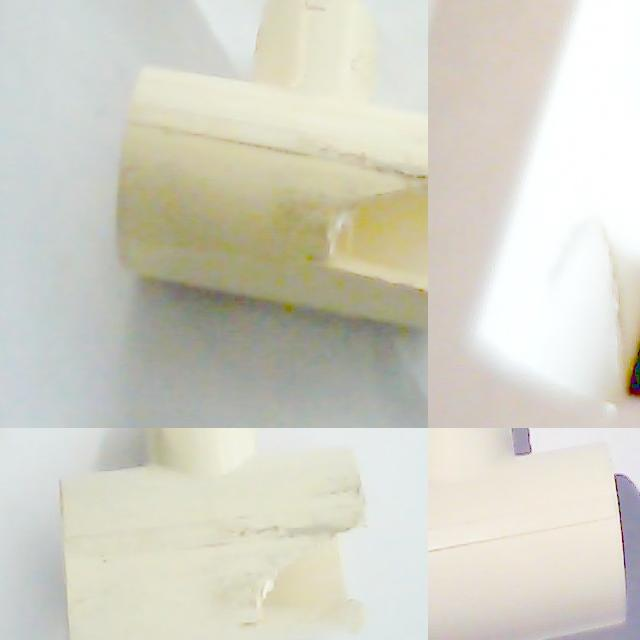Defective: (58, 428, 368, 640), (299, 136, 428, 318), (552, 190, 640, 400), (256, 528, 366, 632), (262, 539, 350, 625)
T Joint: (115, 0, 428, 334), (428, 428, 629, 640)
